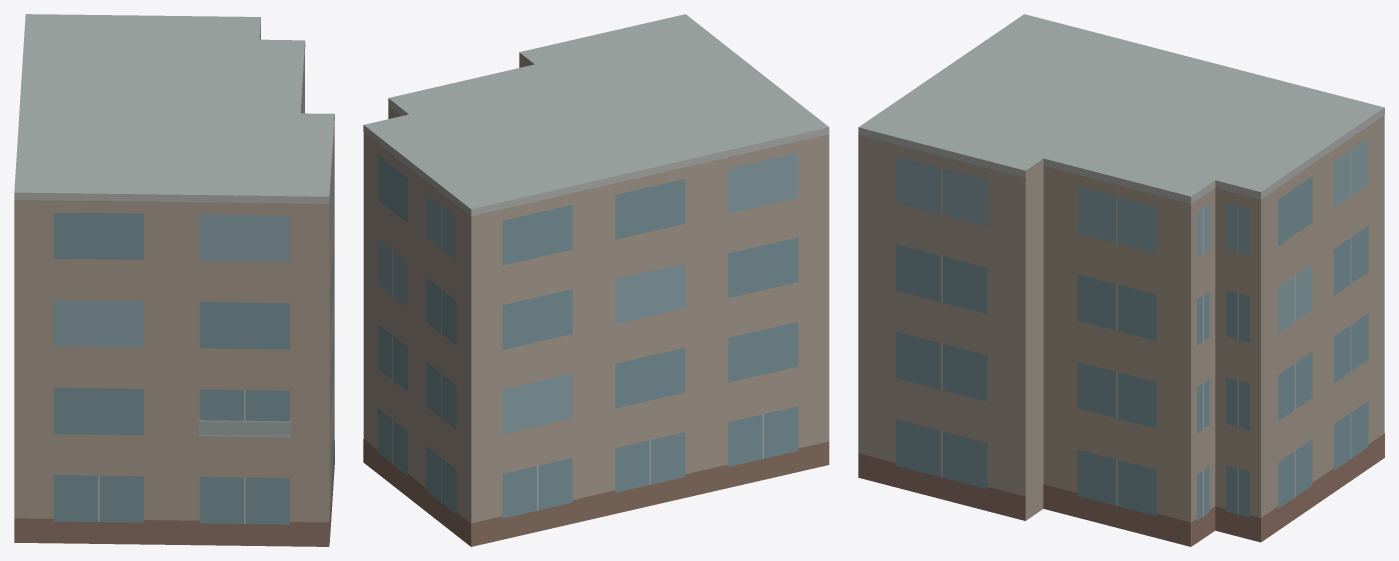
Rendered from survey-upis-32968182.glb.
The picture shows the model from 3 angles, left to right: view 1: azimuth 30°, elevation 25°; view 2: azimuth 150°, elevation 25°; view 3: azimuth 270°, elevation 25°; orthographic projection. The views are drawn at different scales.
Visible parts, largest first — view 1: survey-upis-32968182.tmp; view 2: survey-upis-32968182.tmp; view 3: survey-upis-32968182.tmp.
Part boxes in pixels (x1,y1,x2,y2): survey-upis-32968182.tmp: (14,14,334,546); survey-upis-32968182.tmp: (363,14,829,546); survey-upis-32968182.tmp: (858,14,1384,546).
Size of the model in its own units: 13.09 by 11.7 by 15.95.
